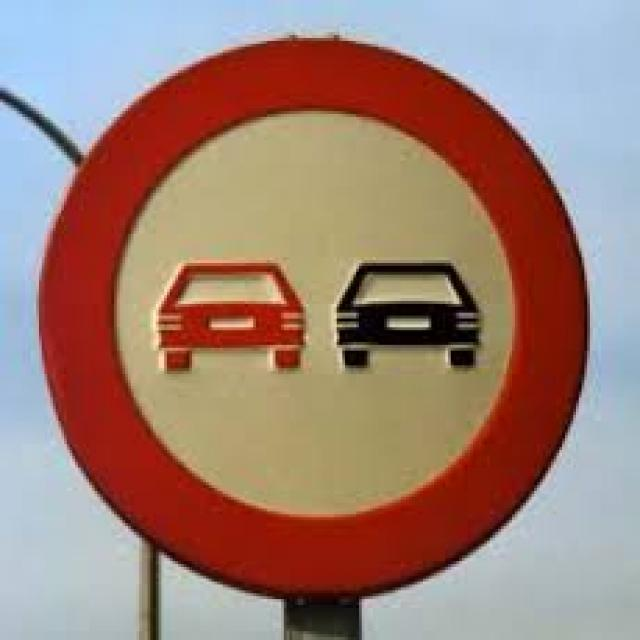no overtaking: (34, 25, 598, 610)
